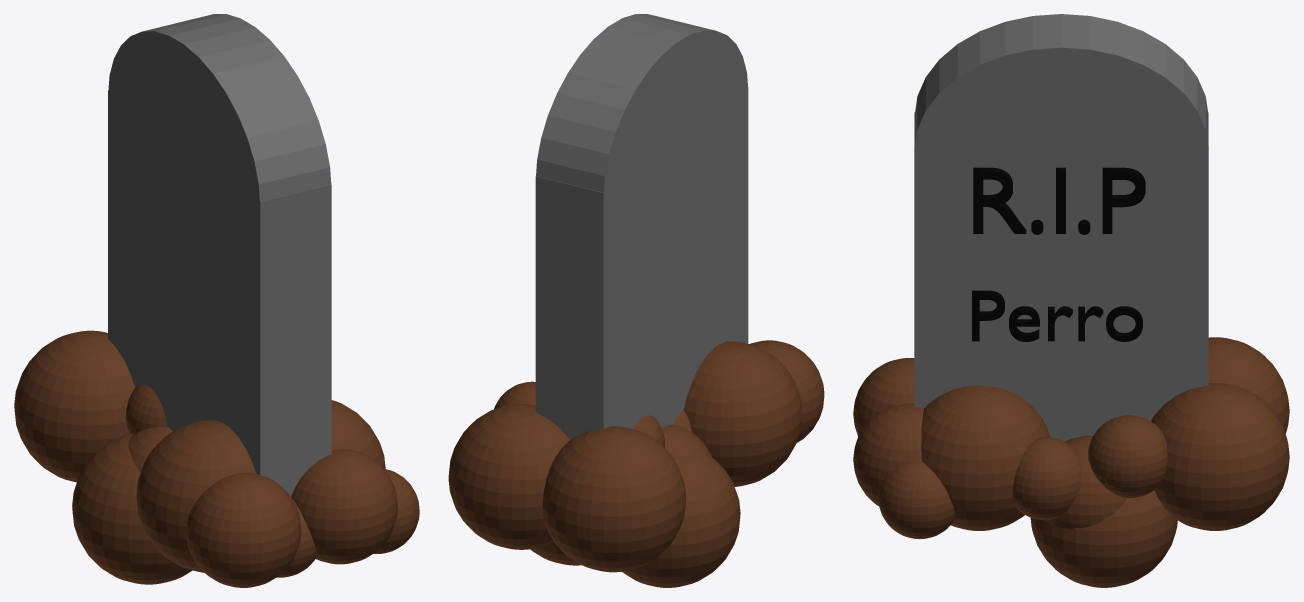
Rendered from tumba.glb.
3 views of the same model, side by side, from view 1: azimuth 30°, elevation 25°; view 2: azimuth 150°, elevation 25°; view 3: azimuth 270°, elevation 25° (orthographic). The views are drawn at different scales.
Parts seen in each view (by area): view 1: Cube.044; view 2: Cube.044; view 3: Cube.044, Text, Text.001.
Boxes of the visible parts, <box> form: Cube.044: <box>14,14,419,587</box>; Cube.044: <box>448,14,824,587</box>; Cube.044: <box>853,14,1289,587</box>; Text: <box>973,167,1145,234</box>; Text.001: <box>972,290,1142,341</box>.
Size of the model in its own units: 1.5 by 3.3 by 2.47.
